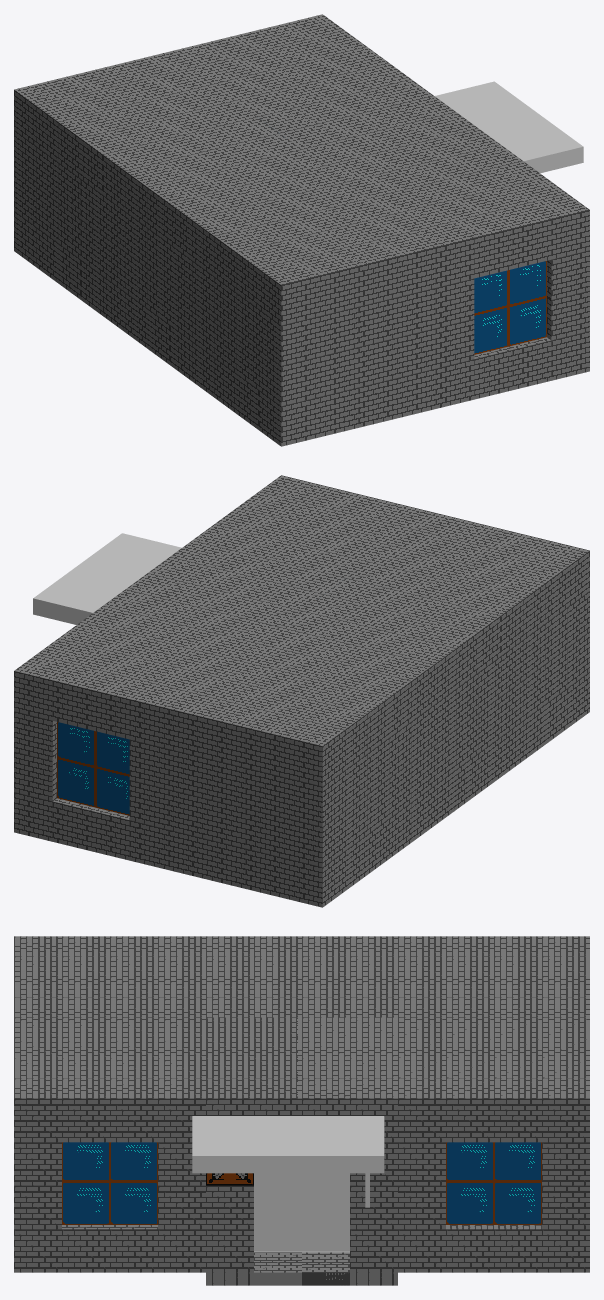
File: Shop.fbx
3 views of the same model, one above another, from view 1: azimuth 30°, elevation 25°; view 2: azimuth 150°, elevation 25°; view 3: azimuth 270°, elevation 25° (orthographic). The views are drawn at different scales.
Visible parts, largest first — view 1: Shop; view 2: Shop; view 3: Shop.
Boxes of the visible parts, x1,y1,x2,y2 form: Shop: [14, 14, 589, 446]; Shop: [14, 475, 589, 907]; Shop: [14, 936, 589, 1285].
Size of the model in its own units: 249 by 107 by 300.
